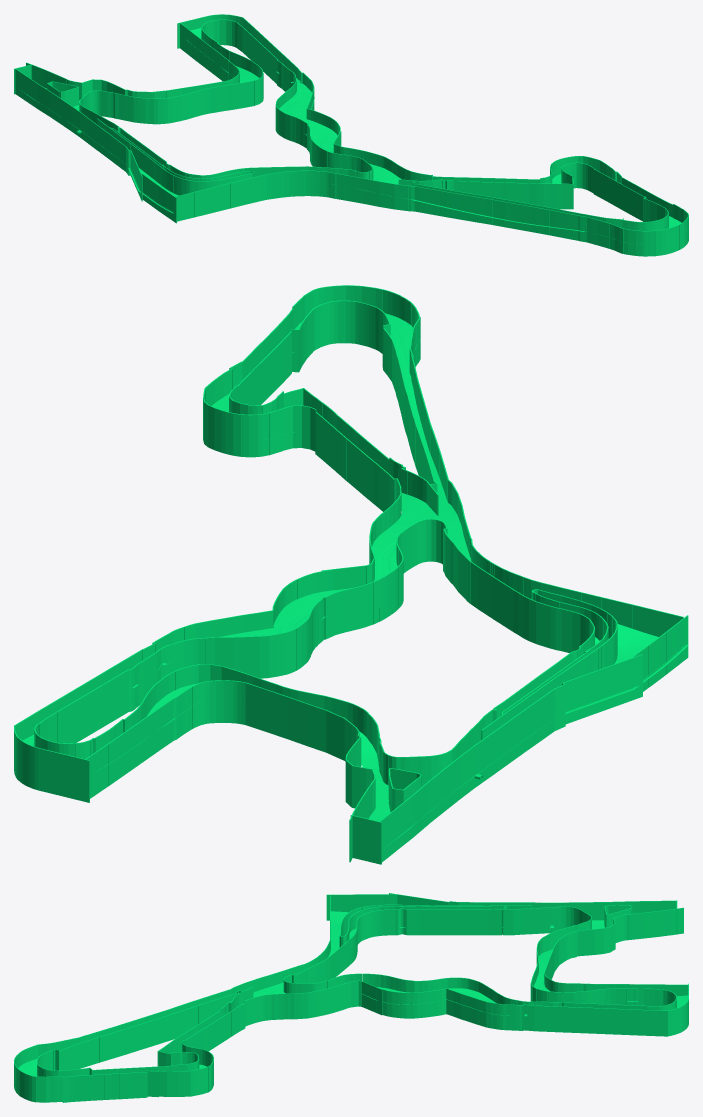
Rendered from physics.glb.
The picture shows the model from 3 angles, top to bottom: view 1: azimuth 30°, elevation 25°; view 2: azimuth 150°, elevation 25°; view 3: azimuth 270°, elevation 25°; orthographic projection. The views are drawn at different scales.
Visible parts, largest first — view 1: Physics.Concrete, Physics.Gravel, Physics.Tarmac, Physics.Grass, Cube.254, Cube.255, Cube.252, Cube.256, Cube.257; view 2: Physics.Concrete, Physics.Tarmac, Physics.Gravel, Cube.017, Cube.246, Cube.226, Cube.245, Cube.008, Cube.227, Cube.251, Cube.018, Cube.248 (+3 smaller); view 3: Physics.Concrete, Cube.242, Cube.244, Cube.014, Cube.243, Cube.241, Physics.Tarmac, Physics.Gravel, Cube.525, Cube.013, Cube.238, Cube.240 (+3 smaller).
Boxes of the visible parts, bbox=[...] form: Physics.Concrete: bbox=[27, 36, 681, 242]; Physics.Gravel: bbox=[22, 28, 640, 244]; Physics.Tarmac: bbox=[79, 32, 675, 227]; Physics.Grass: bbox=[33, 30, 584, 231]; Cube.254: bbox=[379, 181, 394, 209]; Cube.255: bbox=[364, 178, 379, 206]; Cube.252: bbox=[394, 184, 410, 211]; Cube.256: bbox=[350, 176, 364, 203]; Cube.257: bbox=[336, 173, 350, 201]; Physics.Concrete: bbox=[32, 320, 635, 837]; Physics.Tarmac: bbox=[26, 327, 626, 817]; Physics.Gravel: bbox=[22, 313, 685, 847]; Cube.017: bbox=[38, 748, 68, 797]; Cube.246: bbox=[108, 727, 133, 785]; Cube.226: bbox=[594, 663, 618, 713]; Cube.245: bbox=[131, 710, 156, 768]; Cube.008: bbox=[619, 654, 642, 705]; Cube.227: bbox=[570, 671, 594, 722]; Cube.251: bbox=[245, 682, 267, 731]; Cube.018: bbox=[68, 755, 89, 802]; Cube.248: bbox=[306, 703, 326, 752]; Physics.Concrete: bbox=[22, 920, 678, 1076]; Cube.242: bbox=[588, 1007, 616, 1034]; Cube.244: bbox=[534, 1005, 561, 1032]; Cube.014: bbox=[640, 1009, 667, 1036]; Cube.243: bbox=[561, 1006, 589, 1033]; Cube.241: bbox=[615, 1008, 639, 1035]; Physics.Tarmac: bbox=[26, 921, 682, 1075]; Physics.Gravel: bbox=[18, 911, 688, 1071]; Cube.525: bbox=[406, 909, 419, 935]; Cube.013: bbox=[670, 907, 683, 935]; Cube.238: bbox=[649, 910, 662, 937]; Cube.240: bbox=[629, 913, 642, 939].
Size of the model in its own units: 1237 by 84.52 by 1917.
